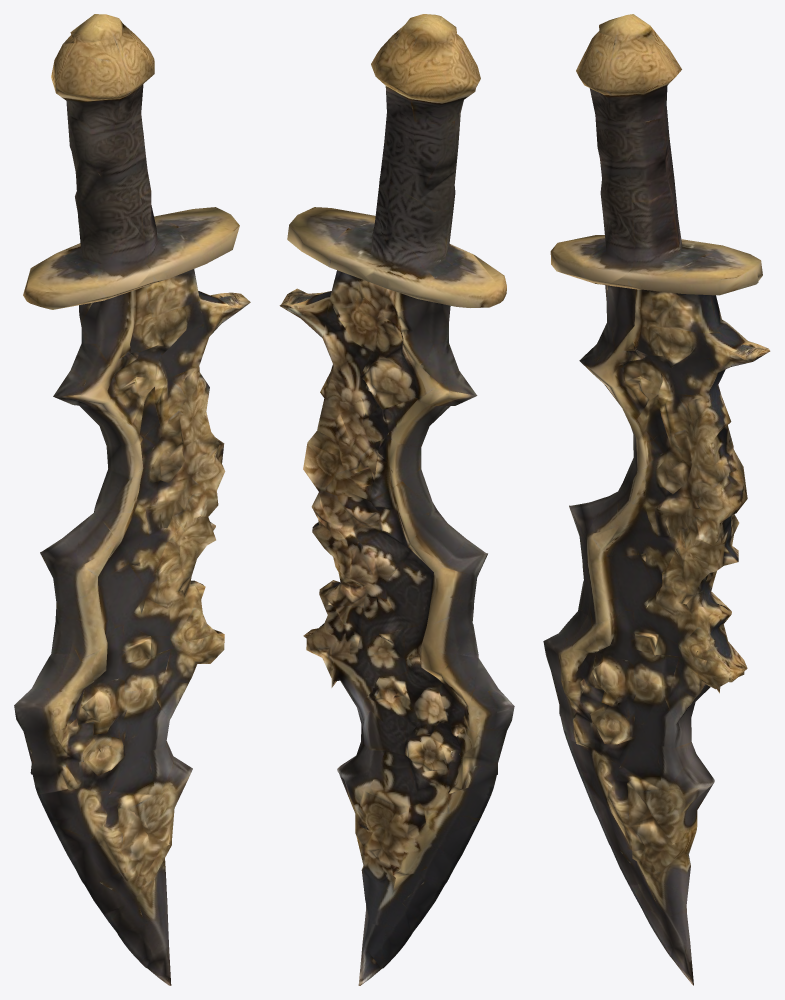
File: 1271_sword.glb
3 renders of one model, left to right at view 1: azimuth 30°, elevation 25°; view 2: azimuth 150°, elevation 25°; view 3: azimuth 330°, elevation 25°, orthographic. The views are drawn at different scales.
Visible parts, largest first — view 1: Model; view 2: Model; view 3: Model.
Boxes of the visible parts, x1,y1,x2,y2 form: Model: (14, 14, 250, 985); Model: (279, 14, 514, 985); Model: (543, 14, 770, 985).
Size of the model in its own units: 0.2411 by 1 by 0.0942.
Materials: 1 (1 with a texture image).
